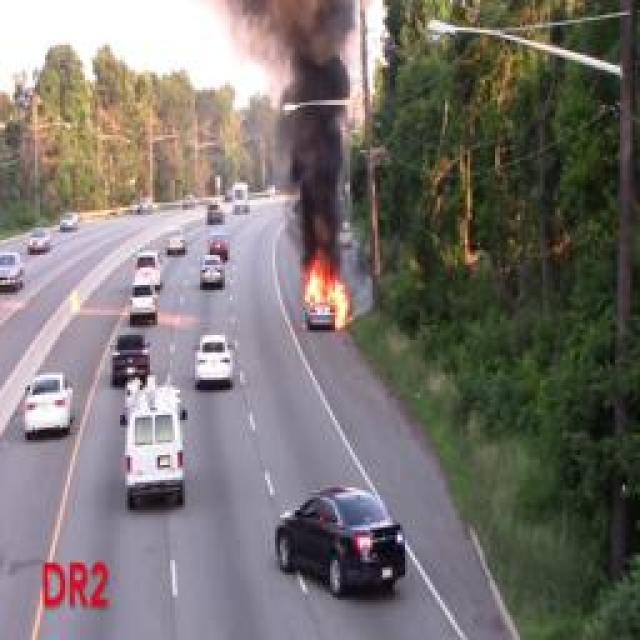Fire: (304, 253, 350, 330)
Smoke: (284, 0, 363, 231)
